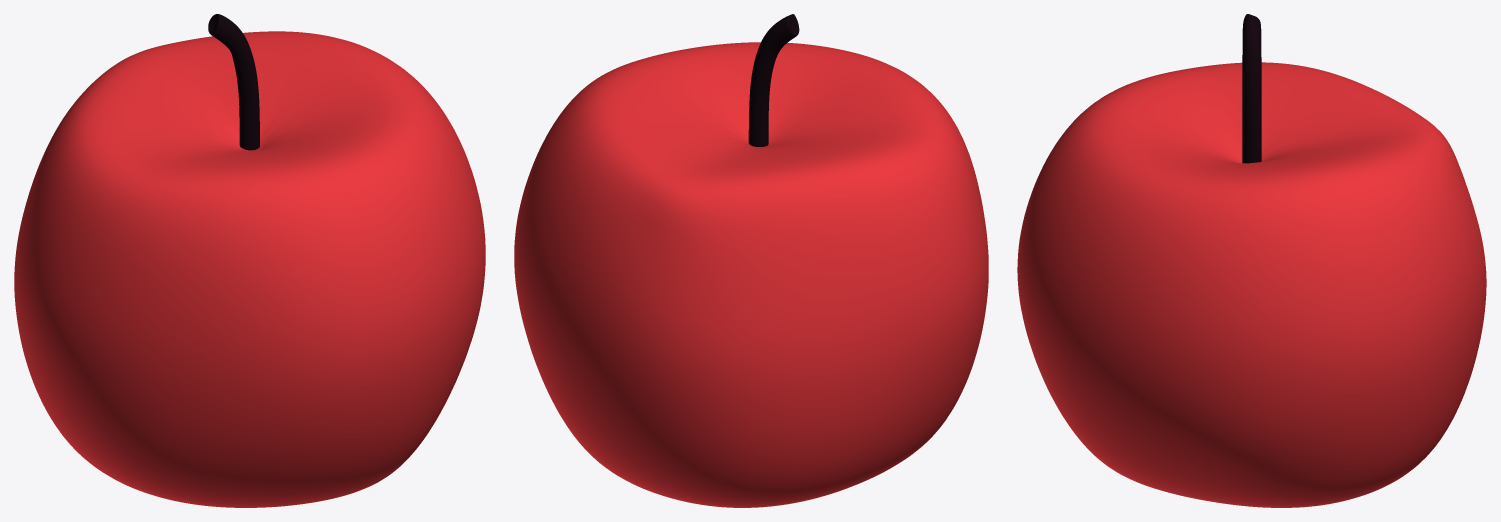
File: apple.fbx
3 renders of one model, left to right at view 1: azimuth 30°, elevation 25°; view 2: azimuth 150°, elevation 25°; view 3: azimuth 270°, elevation 25°, orthographic. The views are drawn at different scales.
Parts seen in each view (by area): view 1: Apple; view 2: Apple; view 3: Apple.
Part boxes in pixels (box(x1,y1,x2,y2)): Apple: box(14, 14, 485, 507); Apple: box(514, 14, 988, 507); Apple: box(1017, 14, 1486, 507).
Size of the model in its own units: 50.92 by 51.29 by 51.55.
